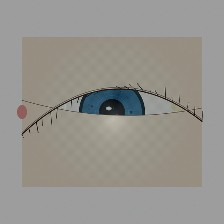pinguecula_lesion: (164, 94, 194, 119)
